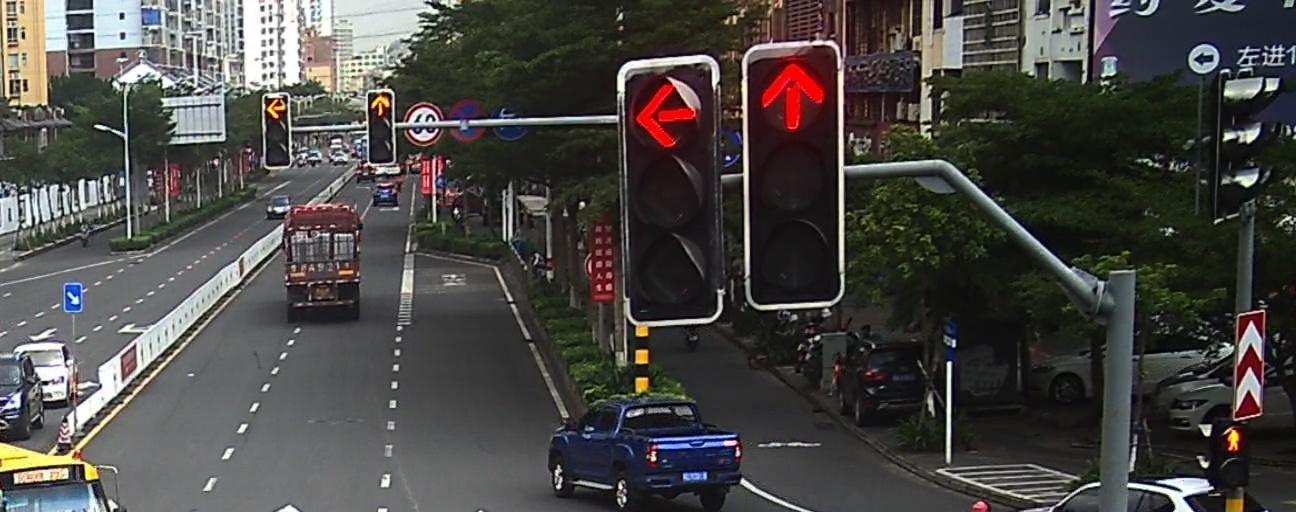redleft: (634, 84, 700, 150), (264, 96, 288, 120)
redpeople: (1219, 423, 1249, 453)
redstraight: (757, 59, 830, 132), (369, 93, 393, 117)
